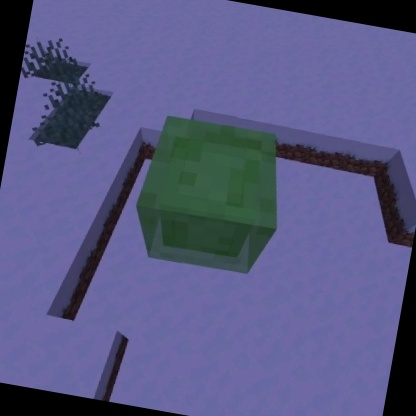slime: (121, 107, 298, 286)
